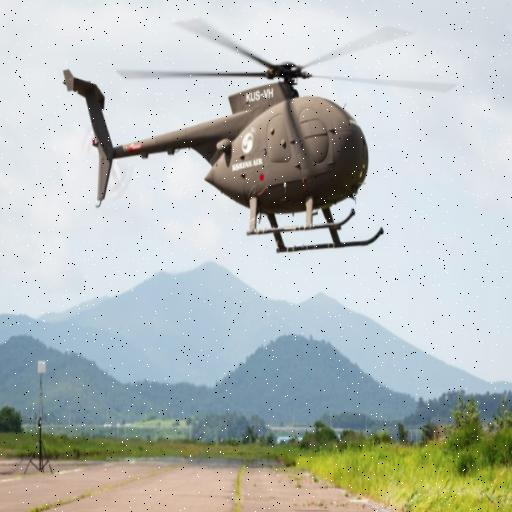helicopter: (62, 23, 464, 254)
